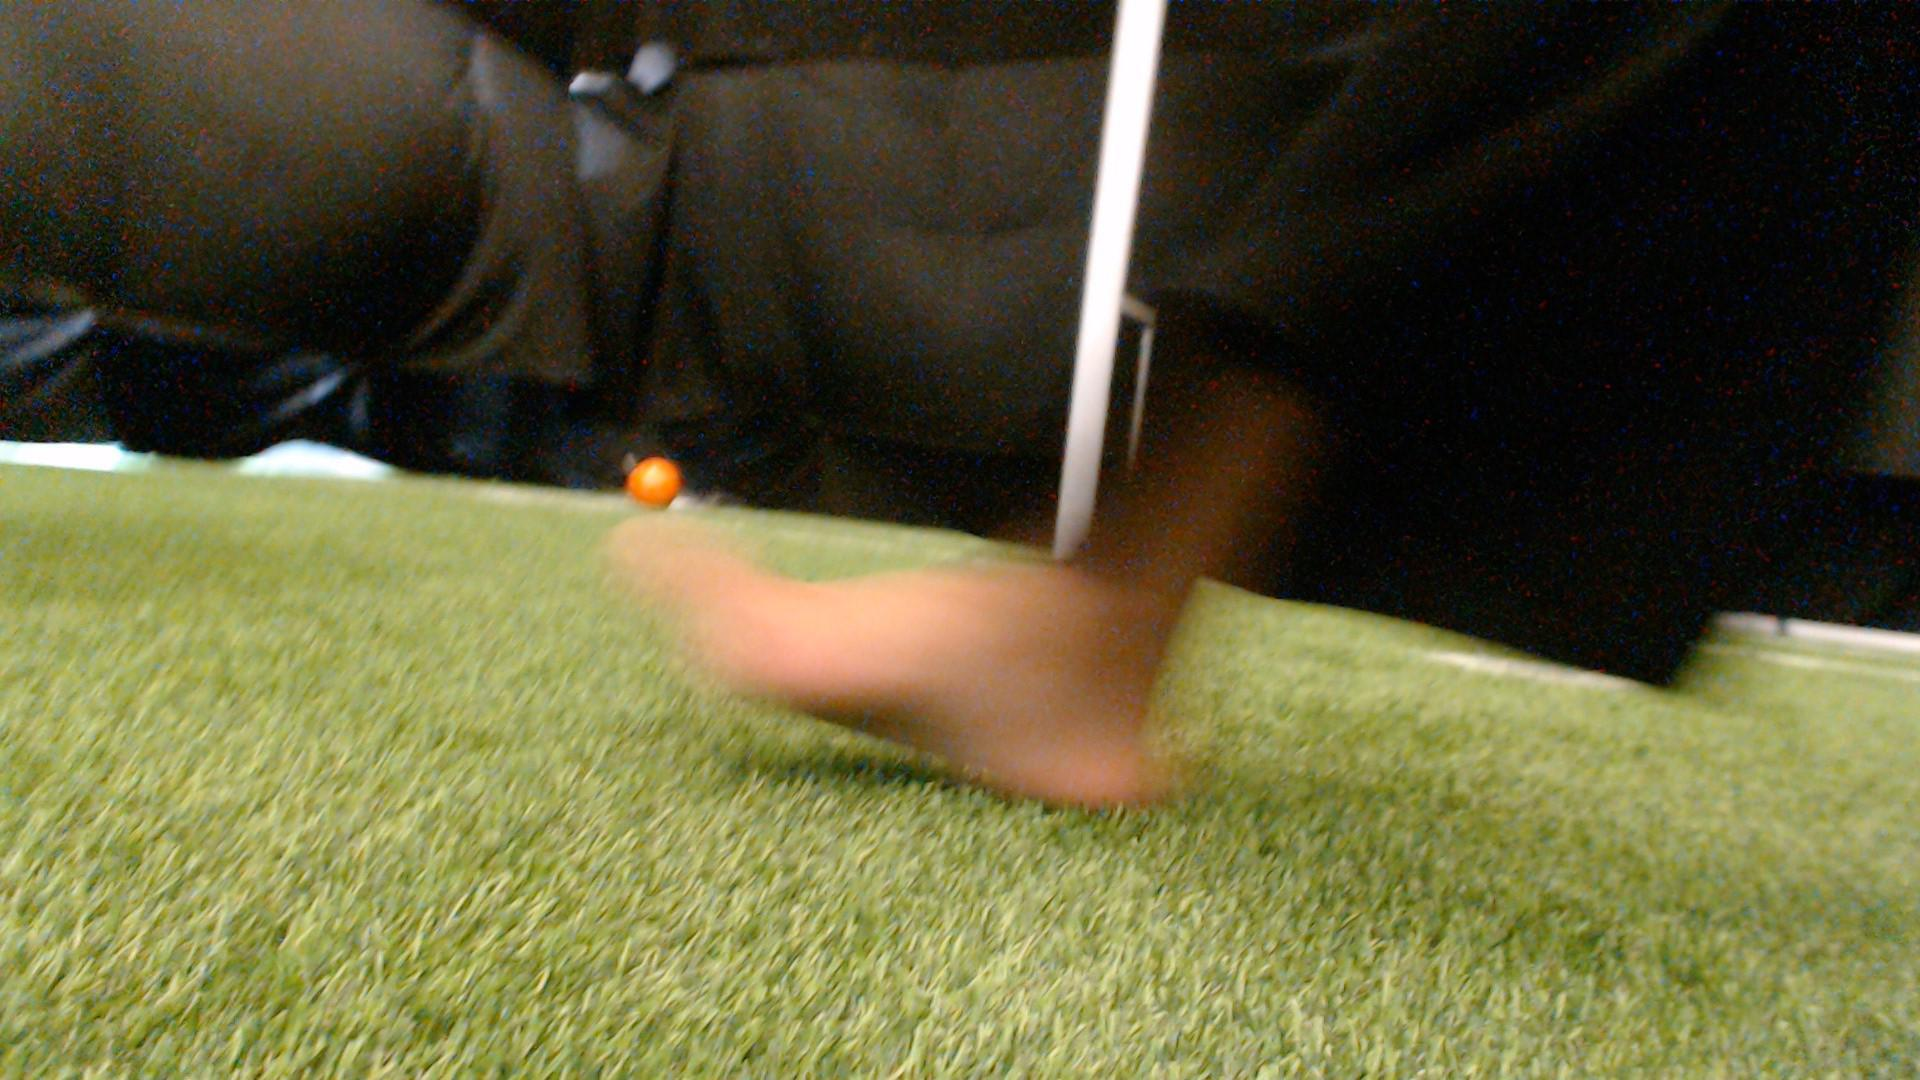bola: (621, 452, 692, 513)
